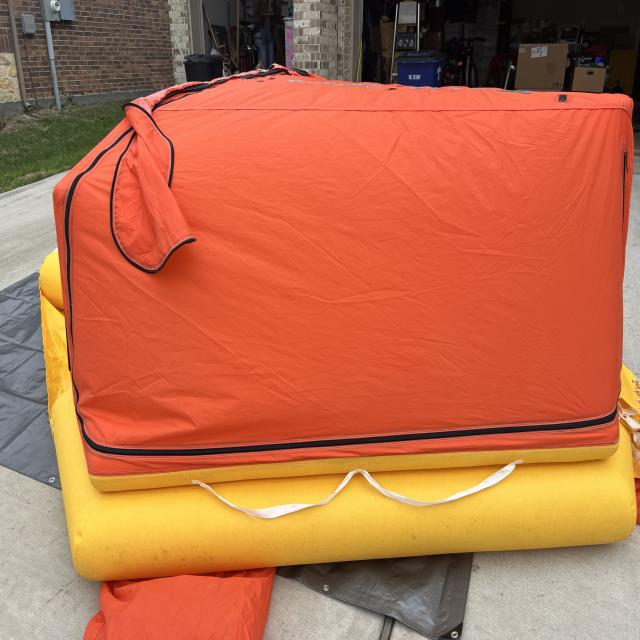Multi-person_life_raft: (38, 61, 640, 639)
